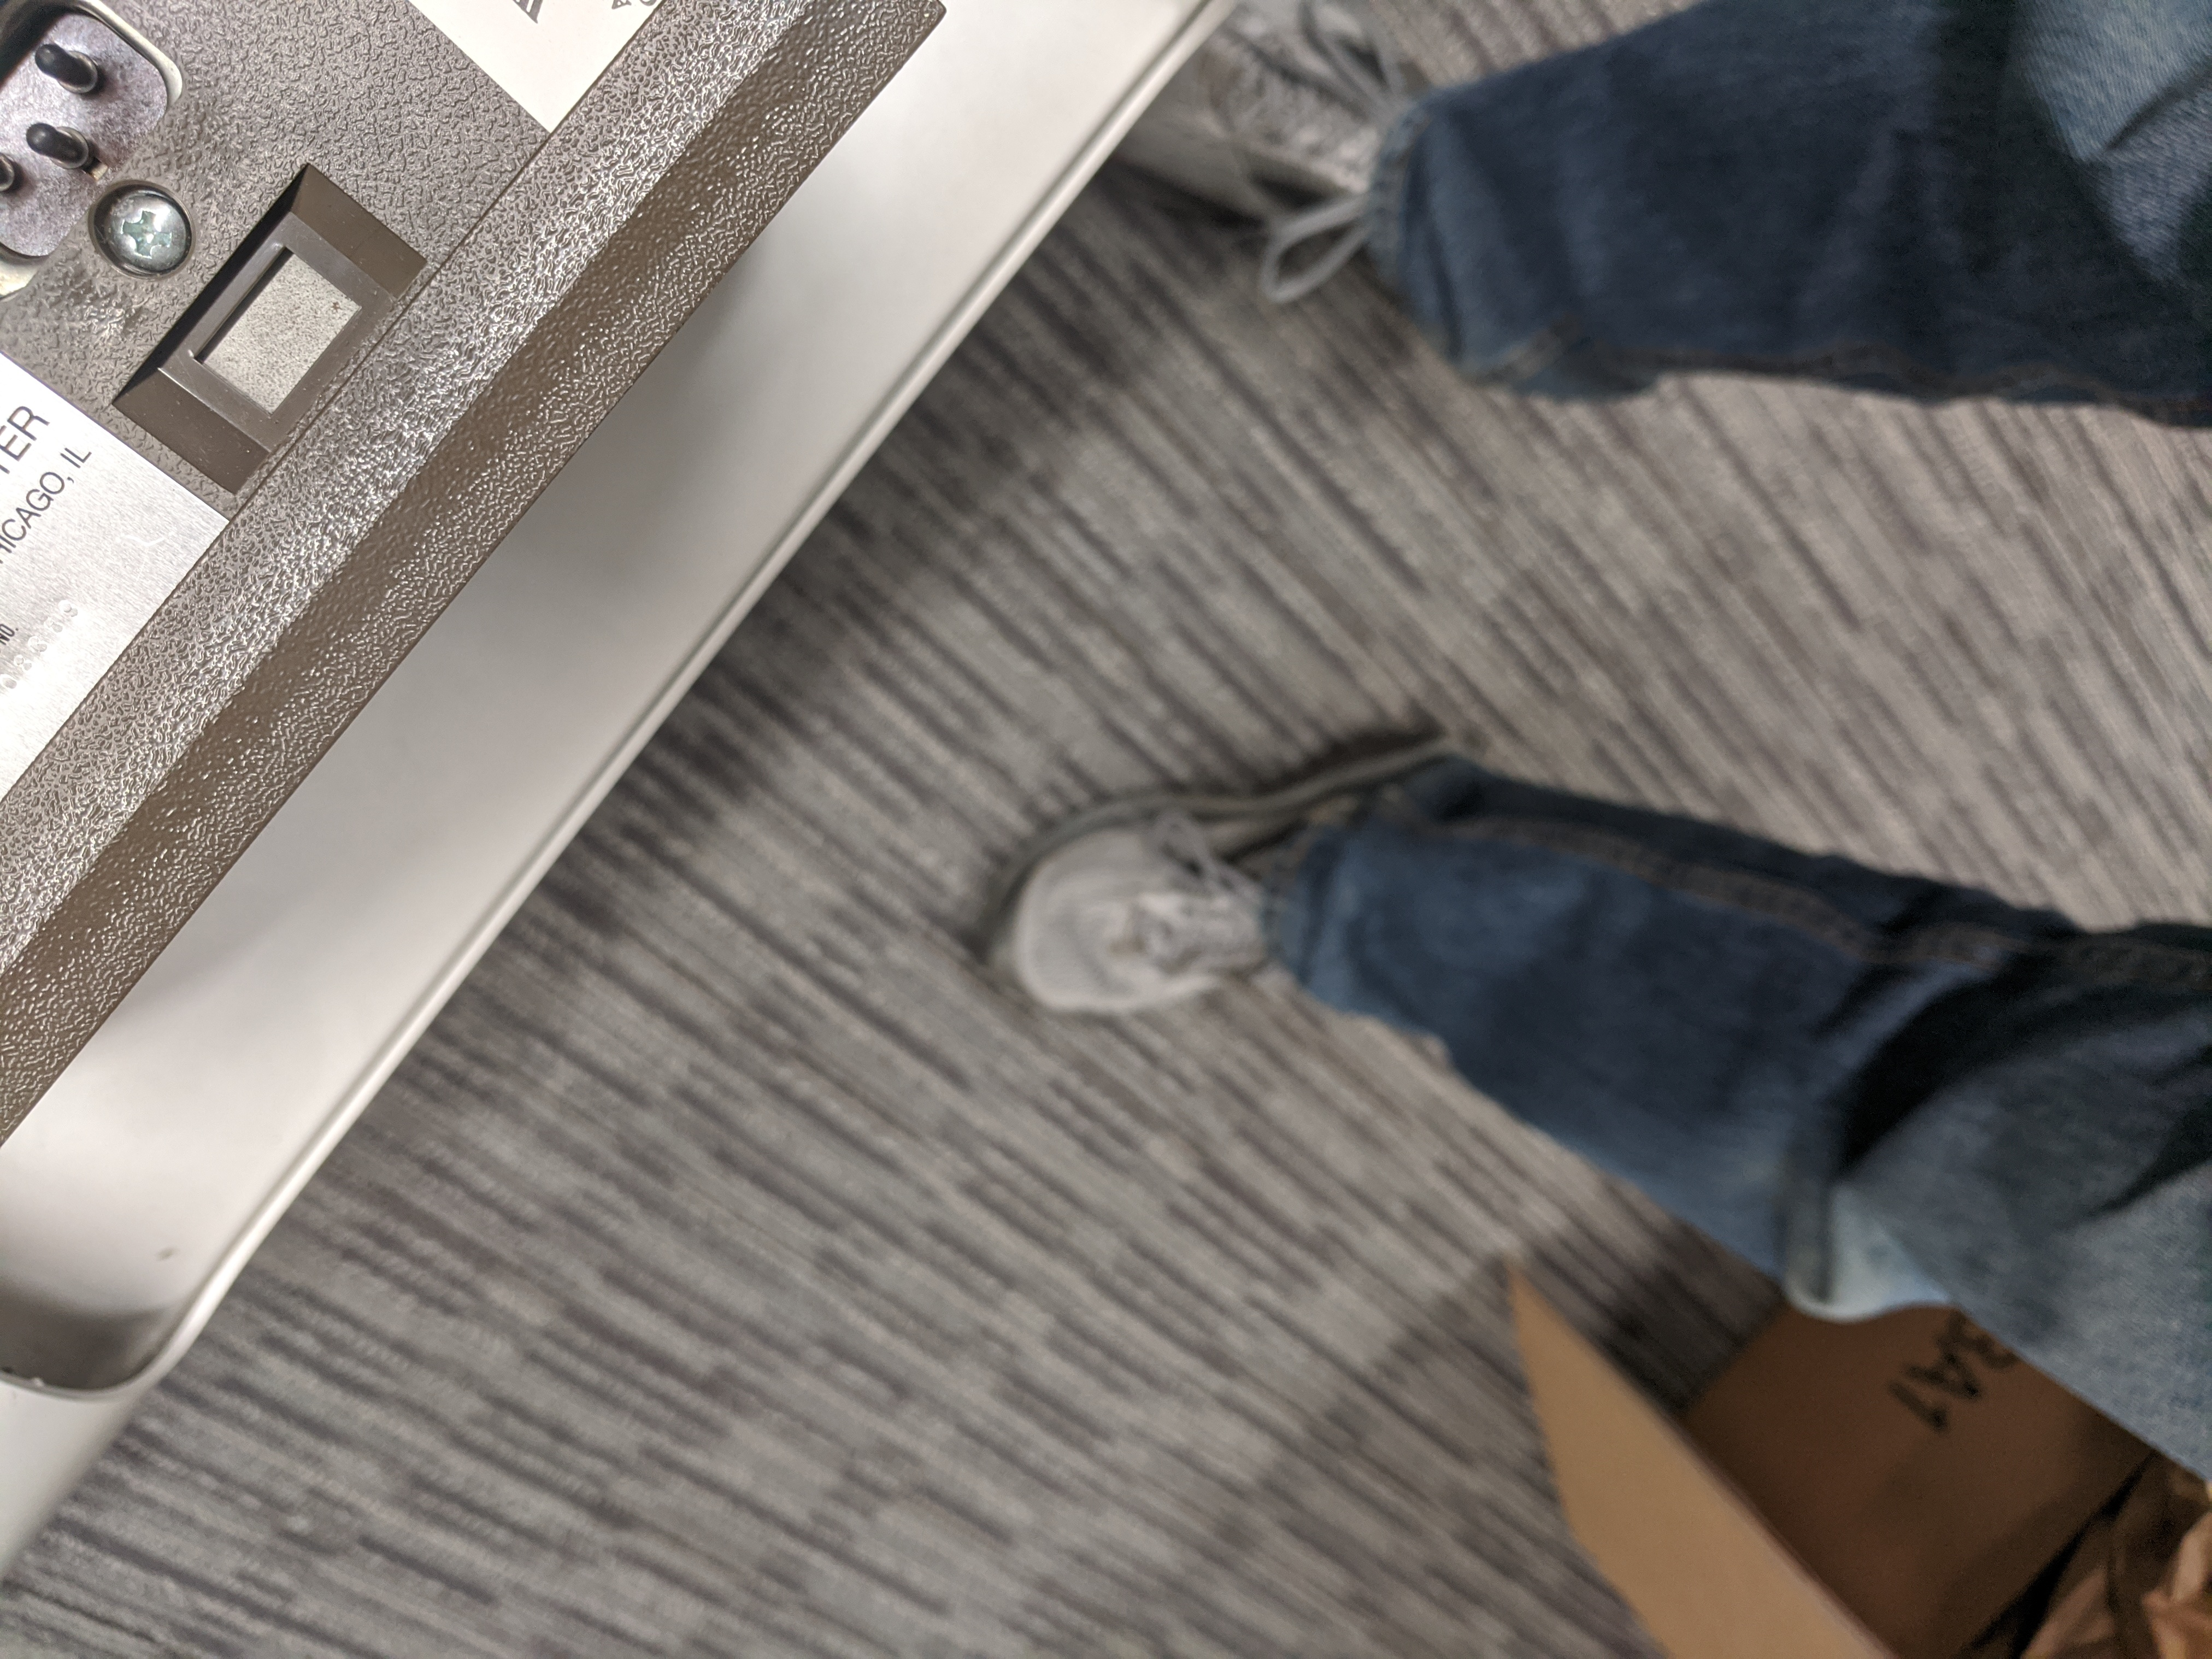cross_recessed_screw: (85, 179, 188, 281)
